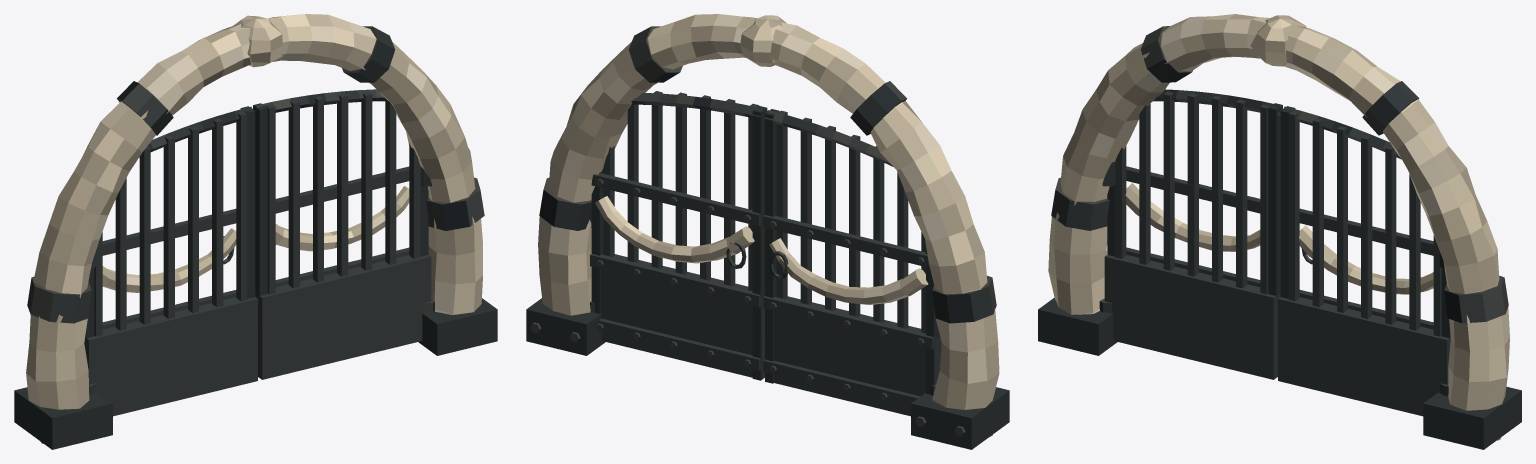
The model's file is area4-s2-land-gate.glb.
3 renders of one model, left to right at view 1: azimuth 30°, elevation 25°; view 2: azimuth 150°, elevation 25°; view 3: azimuth 330°, elevation 25°, orthographic.
Parts seen in each view (by area): view 1: S2_GateBoneFrame, S2_Right_Iron, S2_Left_Iron, S2_GateFrameIron, S2_Left_Bone, S2_Right_Bone; view 2: S2_GateBoneFrame, S2_Right_Iron, S2_Left_Iron, S2_GateFrameIron, S2_Right_Bone, S2_Left_Bone; view 3: S2_GateBoneFrame, S2_Left_Iron, S2_Right_Iron, S2_GateFrameIron, S2_Left_Bone, S2_Right_Bone.
Part boxes in pixels (box(x1,y1,x2,y2)): S2_GateBoneFrame: box(26, 14, 482, 443); S2_Right_Iron: box(253, 89, 434, 379); S2_Left_Iron: box(84, 106, 257, 416); S2_GateFrameIron: box(14, 26, 497, 449); S2_Left_Bone: box(102, 228, 236, 292); S2_Right_Bone: box(275, 186, 409, 251); S2_GateBoneFrame: box(538, 14, 999, 437); S2_Right_Iron: box(590, 91, 767, 380); S2_Left_Iron: box(763, 109, 941, 416); S2_GateFrameIron: box(526, 26, 1009, 449); S2_Right_Bone: box(595, 196, 754, 263); S2_Left_Bone: box(769, 238, 928, 304); S2_GateBoneFrame: box(1048, 14, 1509, 440); S2_Left_Iron: box(1099, 89, 1282, 379); S2_Right_Iron: box(1278, 106, 1450, 416); S2_GateFrameIron: box(1038, 26, 1521, 449); S2_Left_Bone: box(1125, 183, 1260, 251); S2_Right_Bone: box(1299, 225, 1433, 294).
Size of the model in its own units: 5.08 by 3.94 by 0.777.
